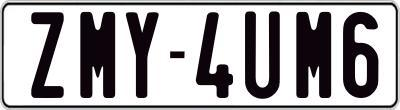4: (194, 9, 237, 96)
6: (341, 12, 380, 101)
M: (77, 9, 118, 97), (295, 12, 330, 101)
U: (242, 11, 283, 105)
Y: (126, 12, 162, 104)
Z: (31, 11, 70, 102)
